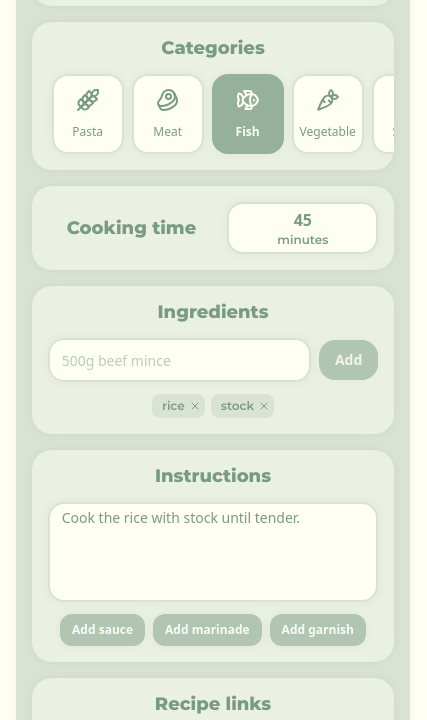
Scenario: EditRecipe delete flow › renders the ingredient input error through the outer field message
(page scrolled)
Type "1" into the field named "Ingredients" at coordinates (179, 360), box [48,338,311,382]
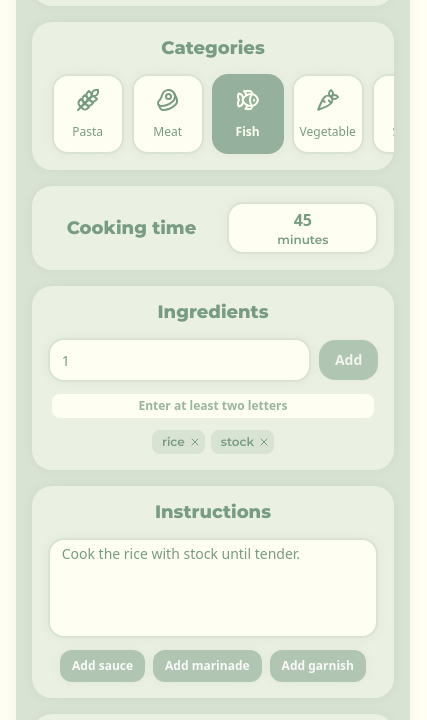
Expected: the text "Enter at least two letters" is shown once, [52,394,374,418]
